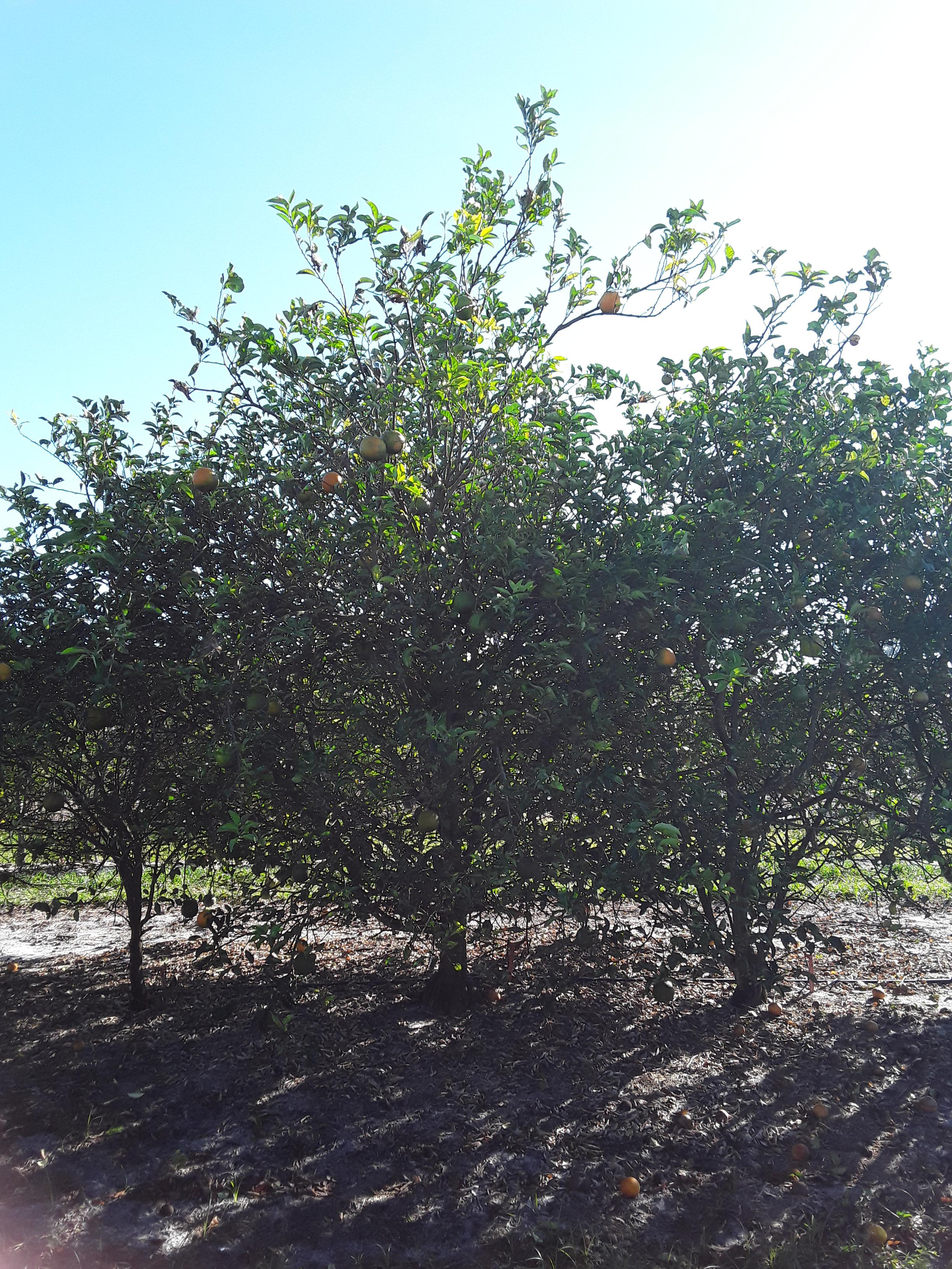fruit_on_ground: (188, 461, 216, 495), (380, 426, 411, 454), (453, 292, 478, 324), (320, 470, 348, 498), (536, 579, 570, 602), (84, 704, 110, 733), (468, 609, 492, 640), (215, 743, 243, 768), (451, 589, 477, 615), (177, 566, 205, 590), (444, 605, 476, 626), (416, 808, 441, 834), (798, 633, 825, 657), (40, 792, 67, 816), (574, 924, 598, 951), (652, 980, 680, 1003), (243, 690, 268, 715), (741, 813, 767, 837), (517, 856, 543, 880), (364, 440, 388, 465), (901, 573, 925, 596), (289, 862, 312, 885), (570, 898, 594, 920), (656, 646, 678, 669), (294, 491, 322, 509), (864, 603, 888, 623), (789, 684, 813, 704), (408, 496, 434, 514), (788, 592, 810, 613), (267, 693, 286, 717), (1, 665, 19, 690), (600, 290, 619, 313), (849, 755, 870, 775), (180, 897, 198, 920), (196, 907, 213, 931), (793, 530, 814, 548), (162, 828, 182, 846), (200, 891, 221, 908), (880, 850, 899, 867), (923, 532, 941, 549), (913, 690, 931, 707), (265, 872, 280, 889), (258, 888, 272, 902), (660, 374, 674, 387), (88, 823, 100, 835)
fruit_on_tree: (612, 1171, 638, 1208), (862, 1222, 889, 1249), (620, 1172, 644, 1201), (917, 1095, 939, 1117), (792, 1142, 813, 1162), (295, 934, 314, 955), (790, 1180, 811, 1199), (765, 998, 781, 1021), (813, 1100, 831, 1120), (770, 1000, 787, 1019), (483, 989, 504, 1004), (678, 1110, 694, 1129), (713, 1110, 734, 1124), (159, 1202, 178, 1217), (905, 1043, 922, 1058), (871, 1064, 888, 1079), (731, 1022, 746, 1038), (619, 1098, 635, 1113), (871, 986, 887, 1000), (72, 1038, 87, 1052), (862, 1019, 878, 1032), (10, 959, 21, 973), (10, 964, 21, 978), (7, 960, 17, 971)
